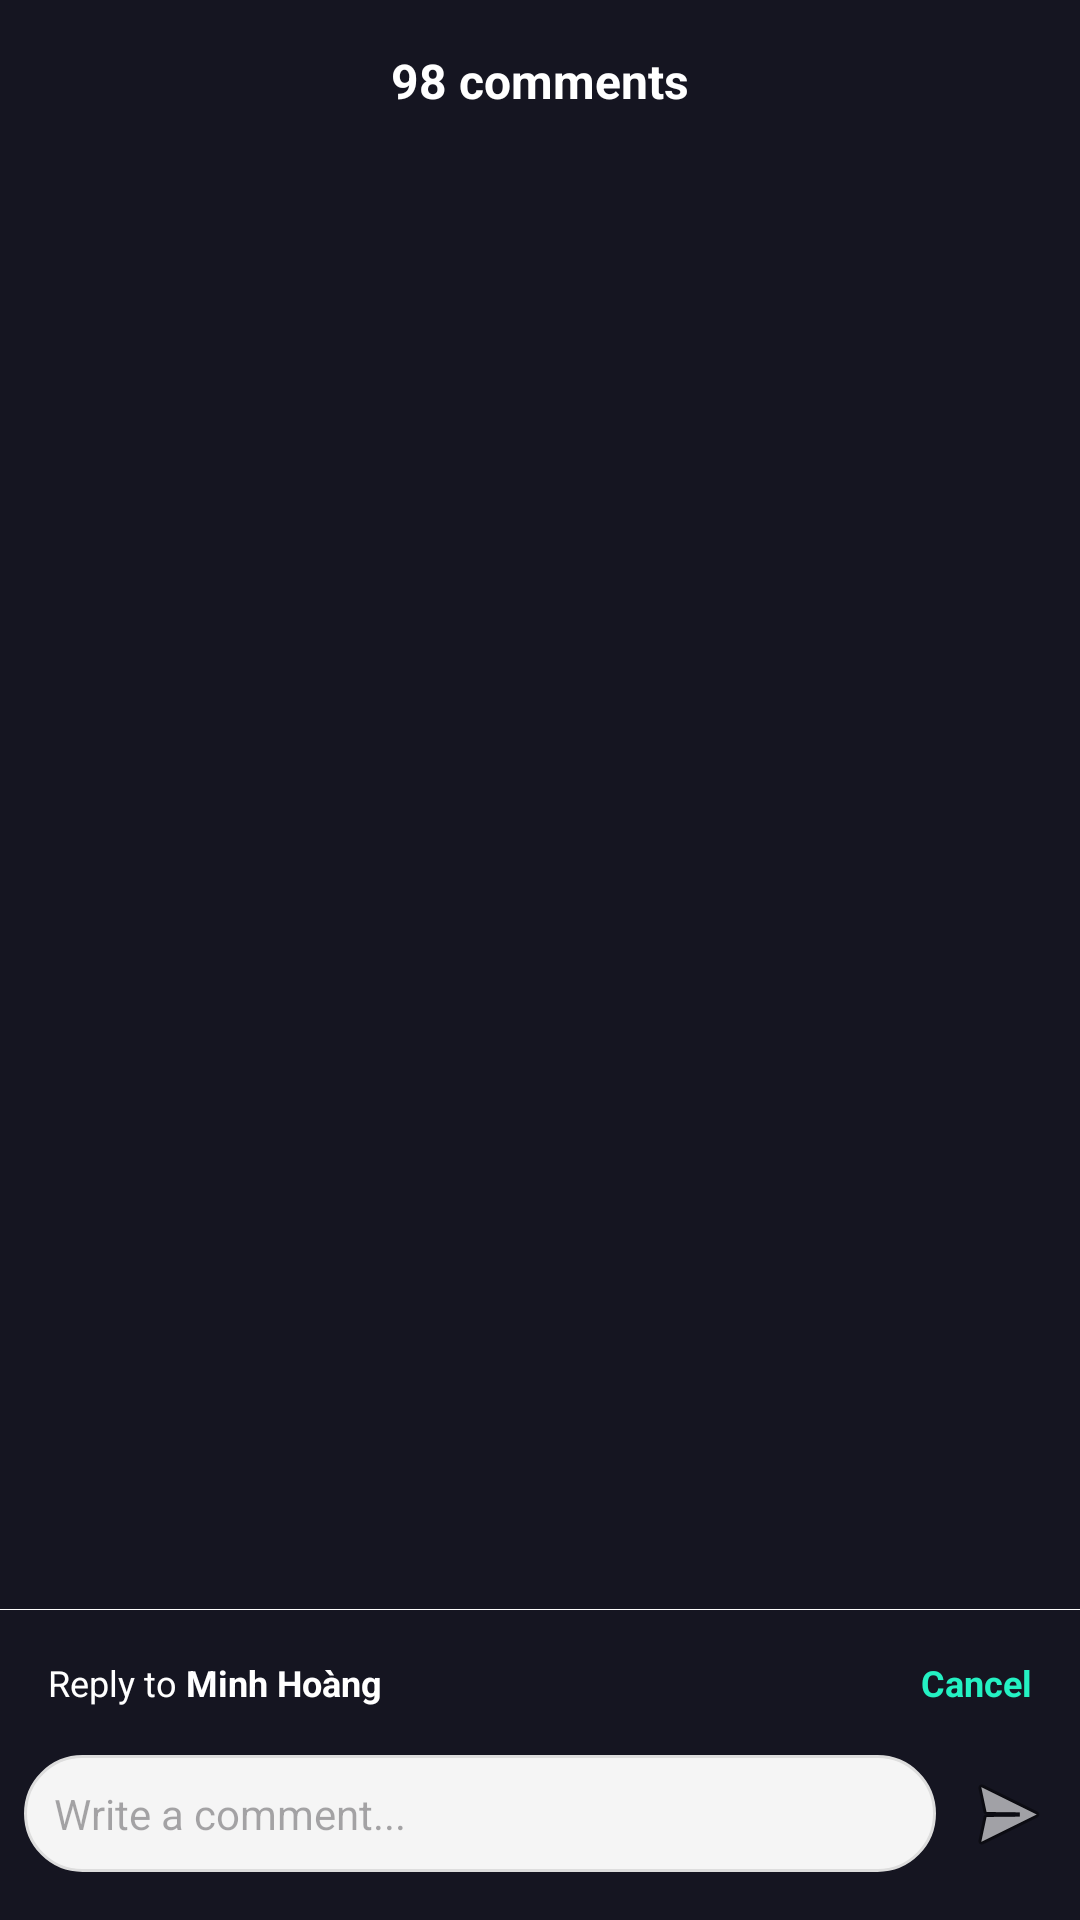

Where to tap for icons on this 1080 × 1920 app screen, as (x=x, y=y):
send: (x=1009, y=1814)
